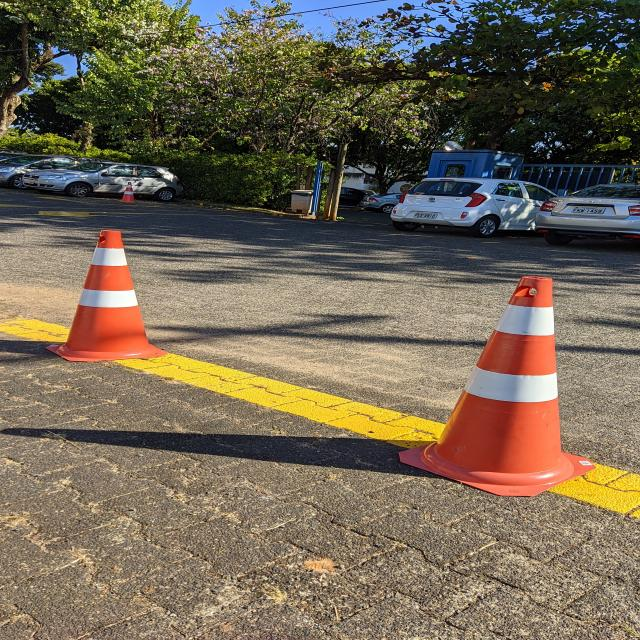cone: (389, 272, 603, 500), (38, 224, 174, 364), (117, 182, 141, 206)
